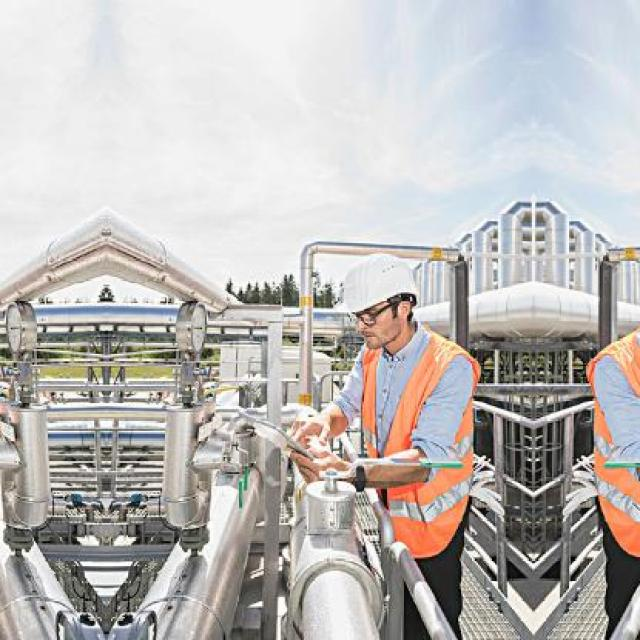helmet: (336, 255, 434, 351)
